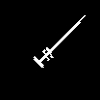treble_crochet: (34, 16, 84, 66)
